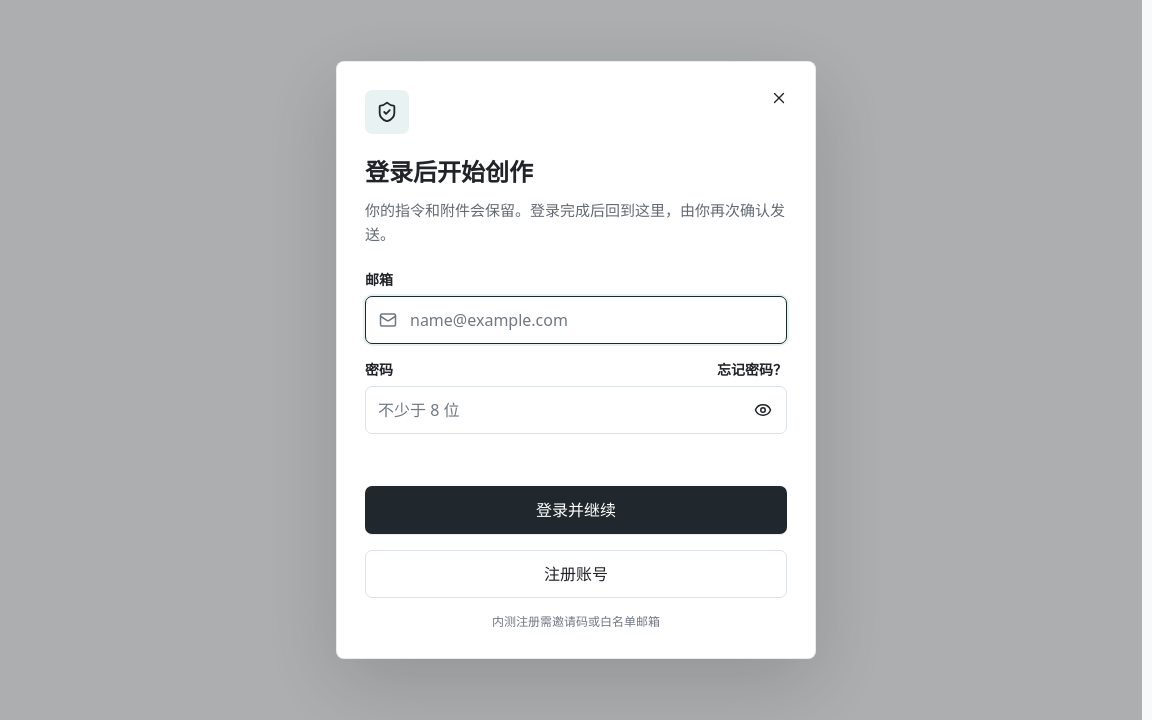
Scenario: AuthDialog › moves registration into the in-dialog verification state after the API accepts it
Click the button "注册账号" at (576, 574), box [365, 550, 787, 598]
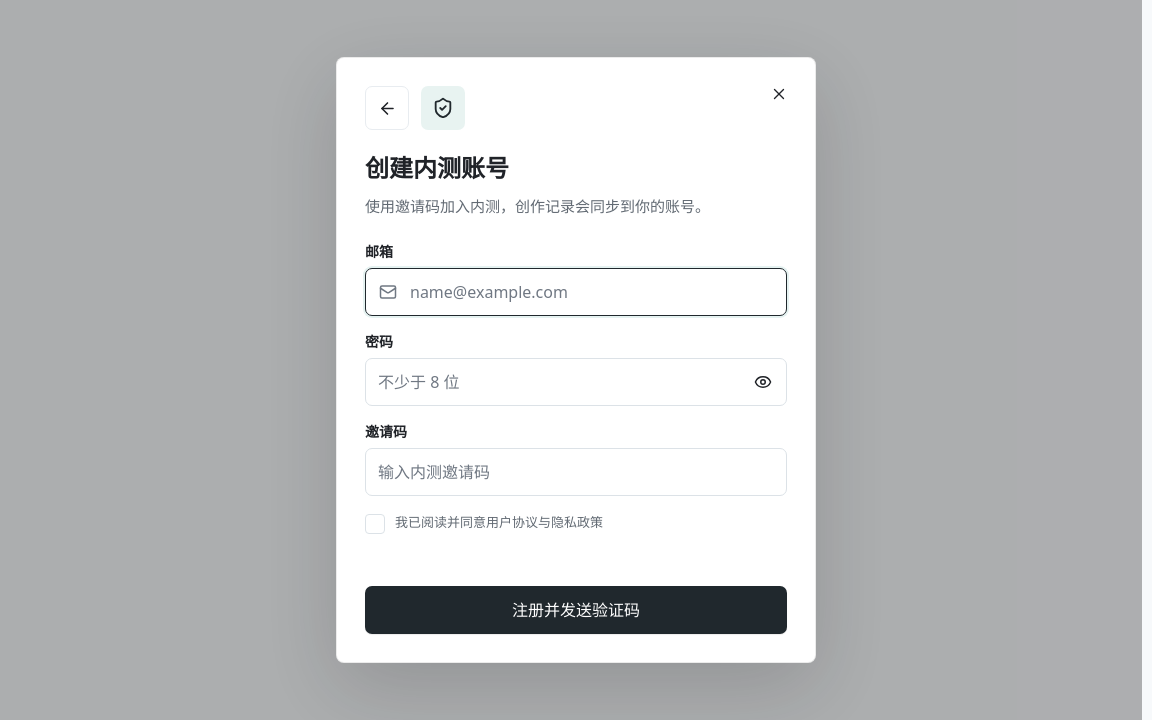
Type "review@example.com" into the field labelled "邮箱" at (576, 292), box [365, 268, 787, 316]
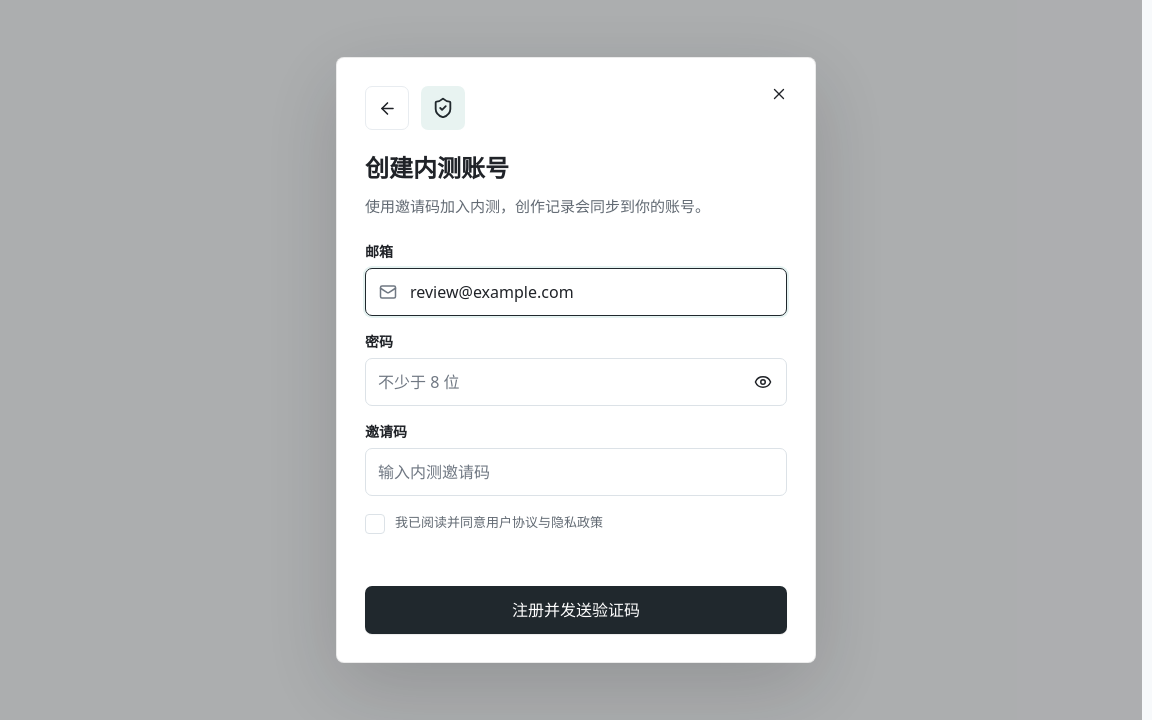
Type "review123" into the password field labelled "密码" at (576, 382), box [365, 358, 787, 406]
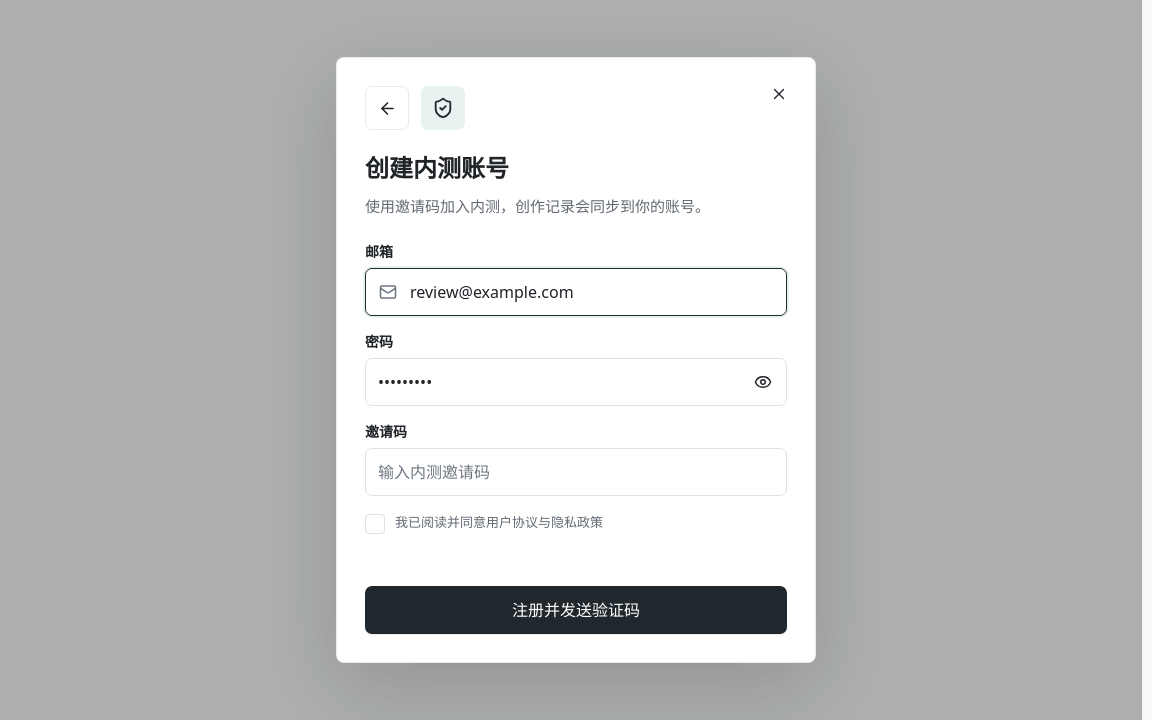
Type "BETA2026" into the field labelled "邀请码" at (576, 472), box [365, 448, 787, 496]
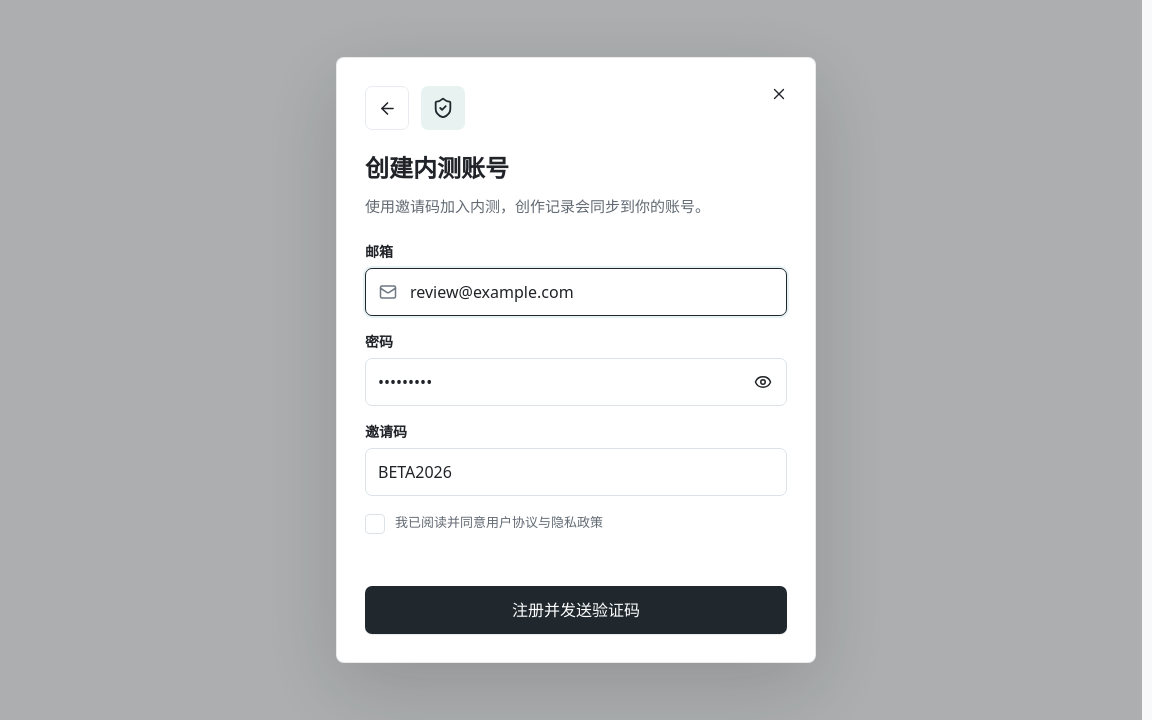
Click the checkbox at (375, 524), box [365, 514, 385, 534]
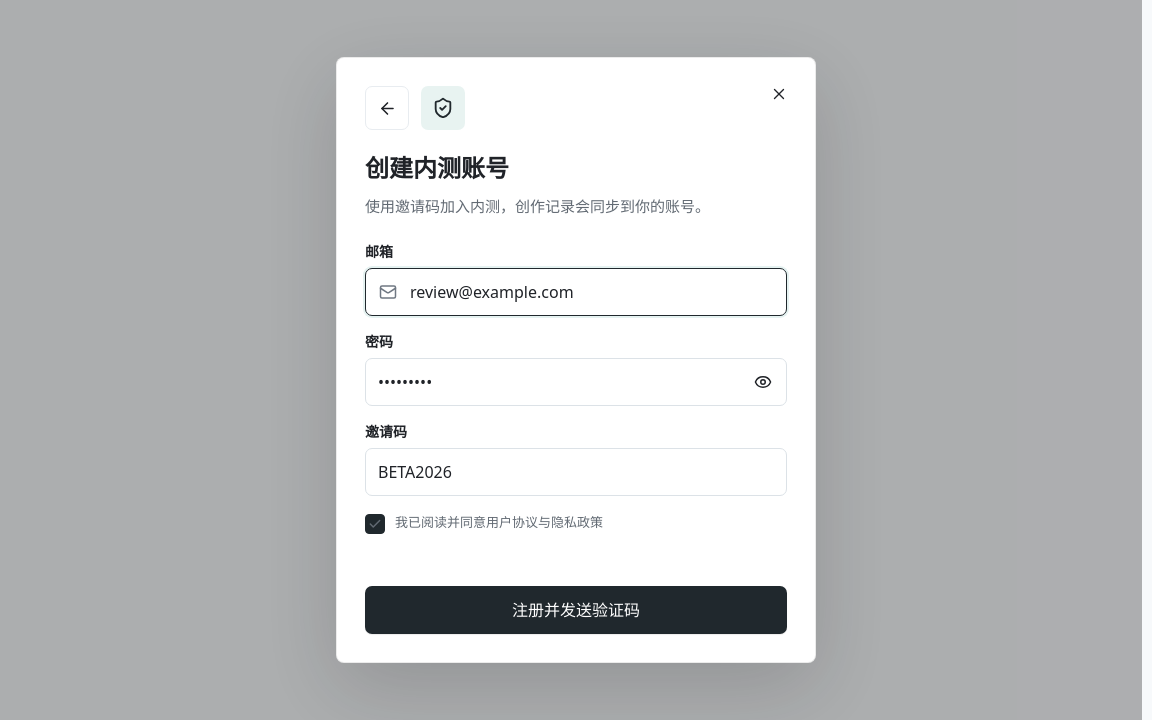
Click the button "注册并发送验证码" at (576, 610), box [365, 586, 787, 634]
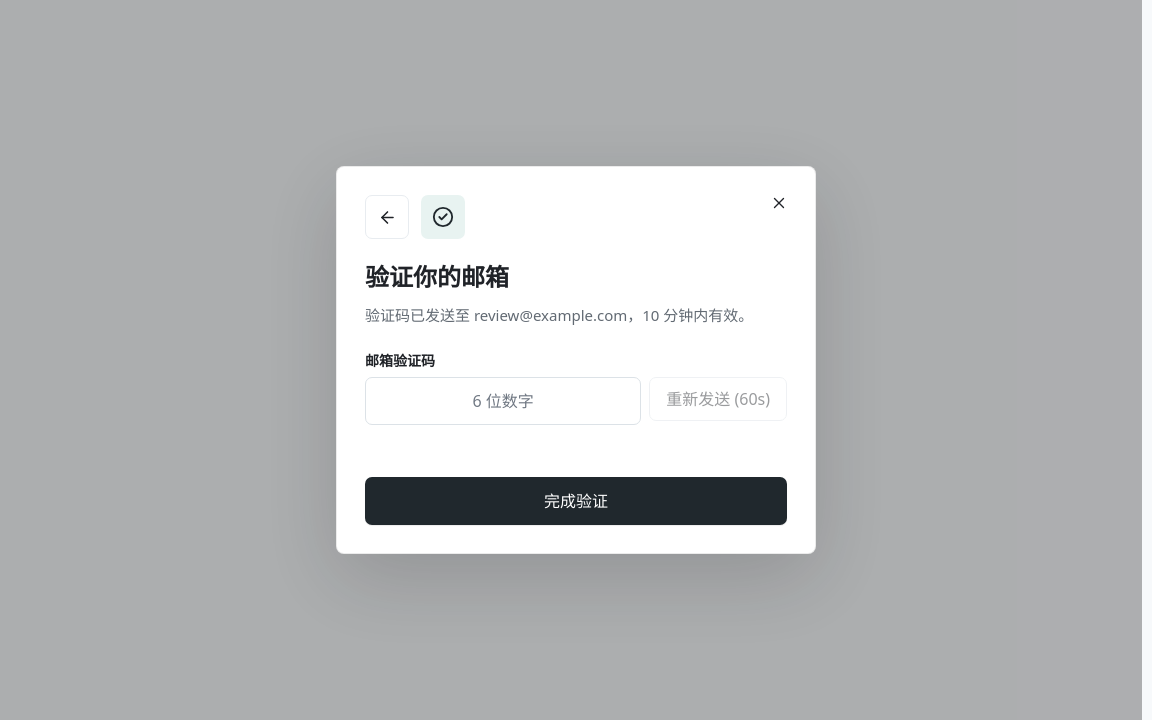
Check: the heading "验证你的邮箱" is shown, box [365, 260, 509, 293]
Check: the field labelled "邮箱验证码" is shown, box [365, 377, 641, 425]
